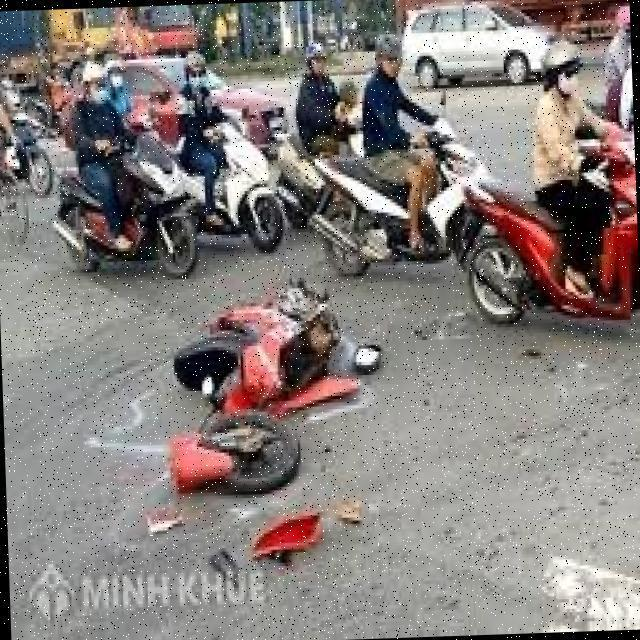accident: (151, 252, 377, 551)
